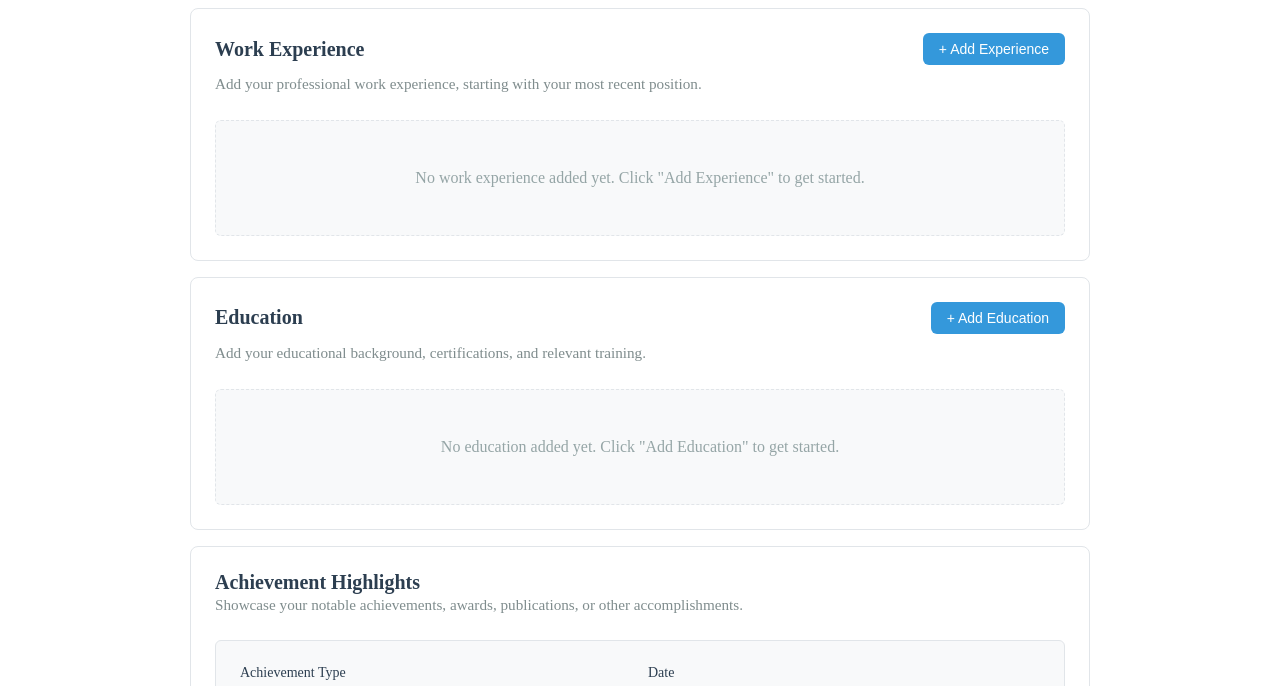
ExperienceStep Component › Education Management › handles currently enrolled checkbox properly
The width and height of the screenshot is (1280, 686).
Click the button "+ Add Education": (998, 318) x1=931 y1=302 x2=1065 y2=334
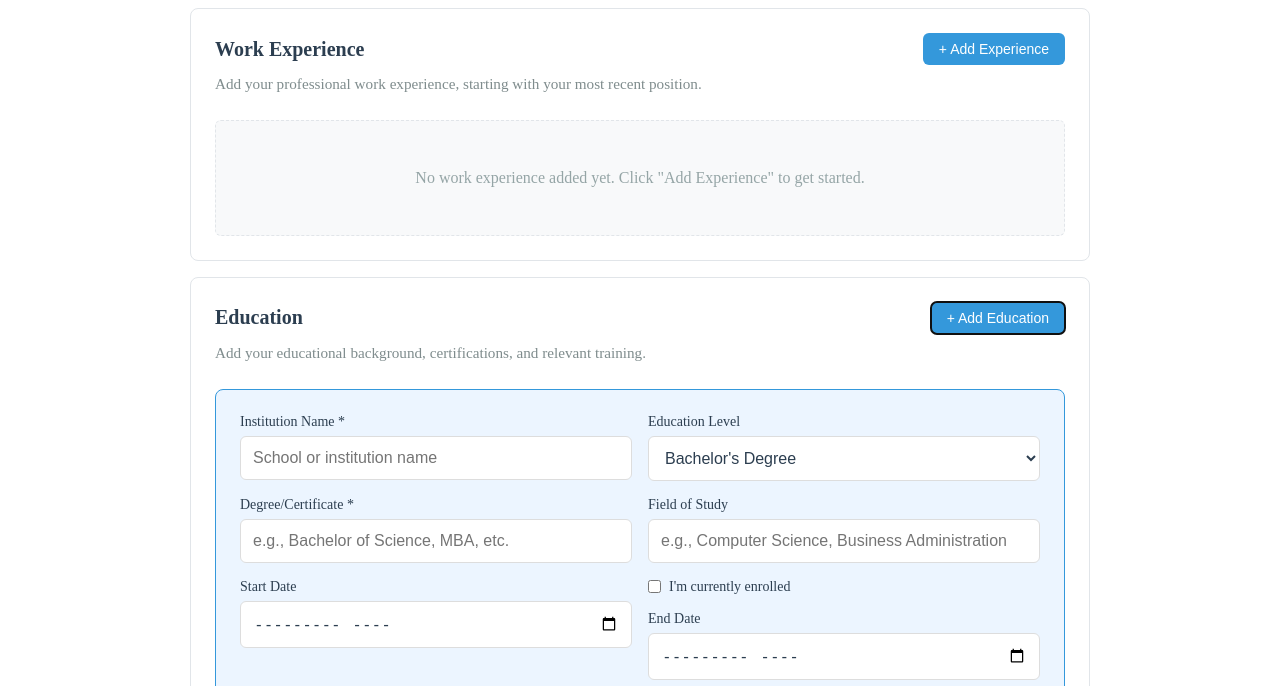
Click the checkbox labelled "I'm currently enrolled": (654, 587) x1=648 y1=580 x2=661 y2=593
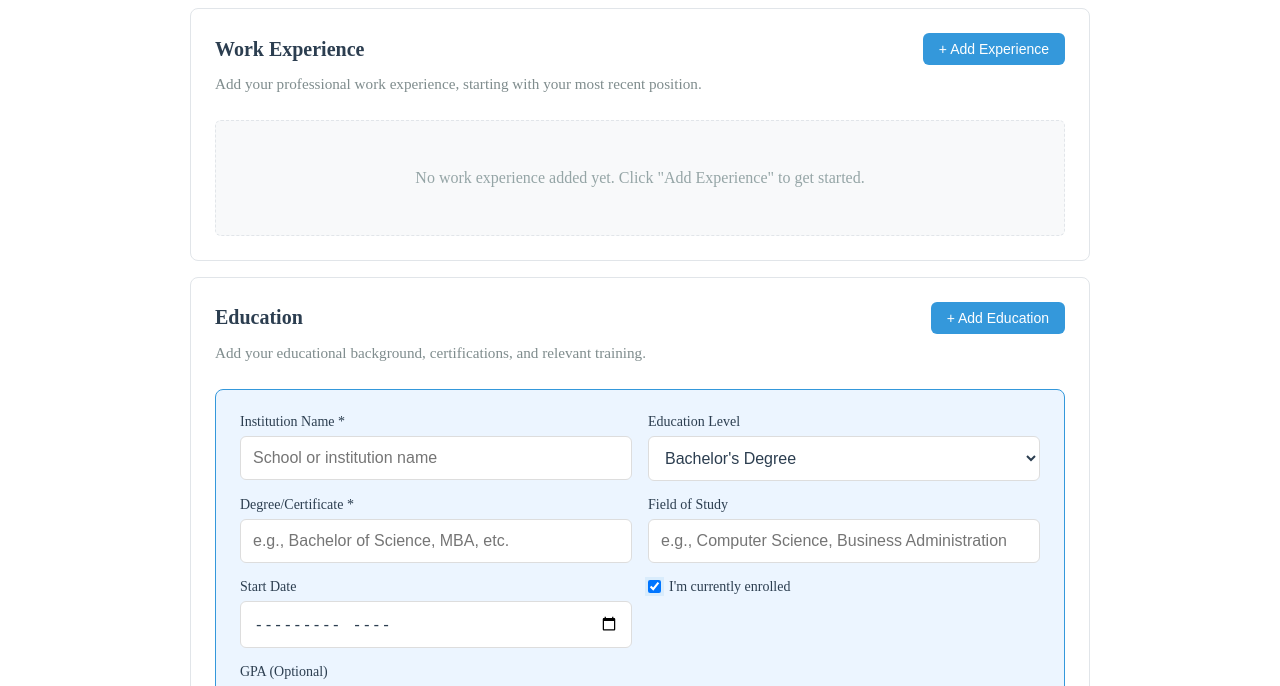
Check: the label labelled "End Date" is gone
